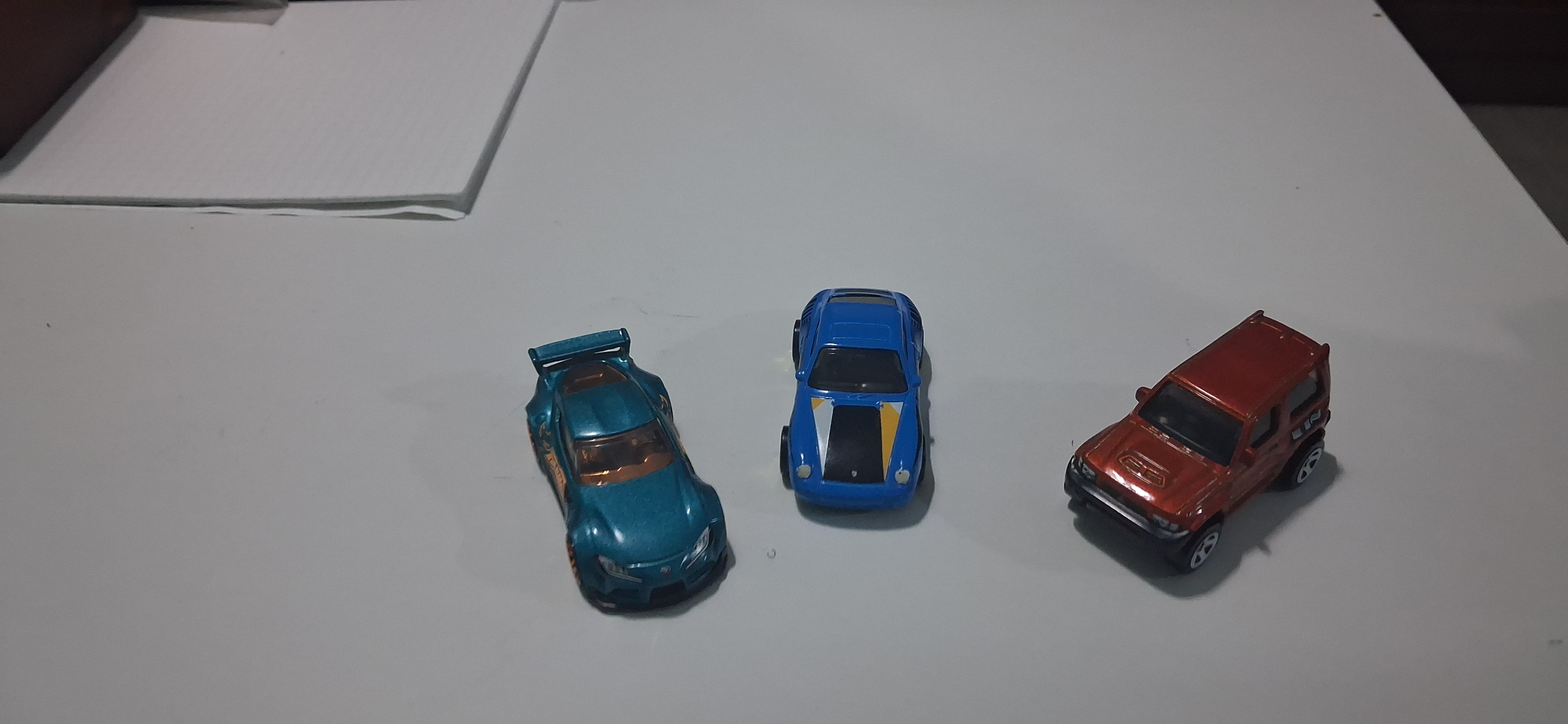Mitsubishi_Pajero_Evolution: (1022, 258, 1363, 607)
Porsche_Carrera: (739, 253, 947, 551)
Toyota_GR_Supra: (471, 313, 748, 644)
